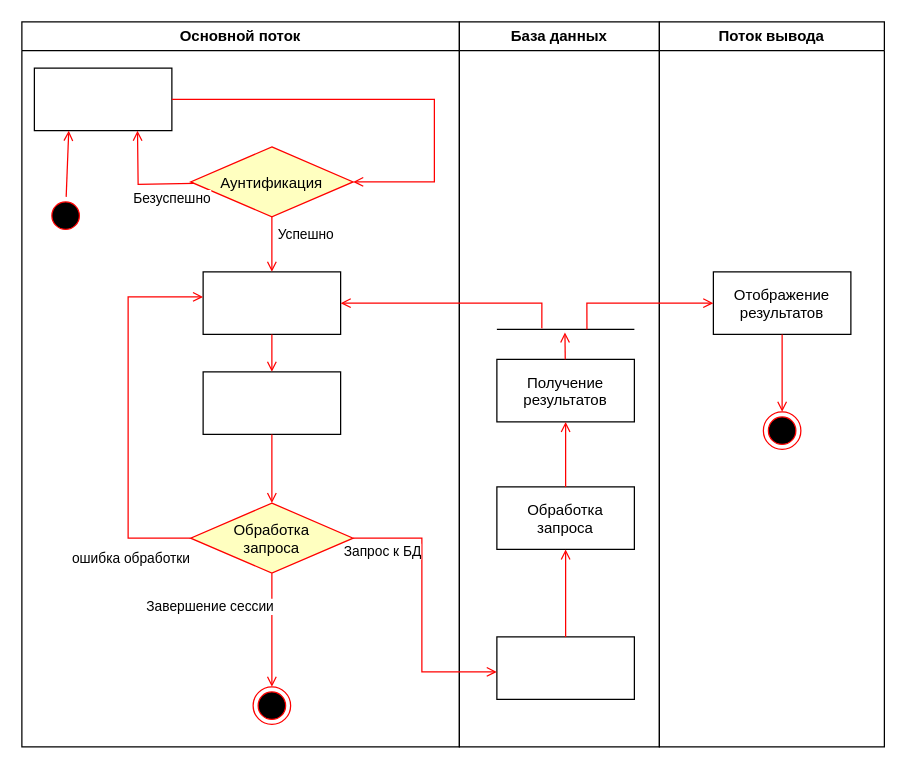
The diagram is 906 pixels wide and 769 high, and some of its shapes have lost their labels. The centre of each missing label's shape, as x and y in pixels:
"Запрос БД" belongs at point (565, 667).
"Идентификация" belongs at point (102, 99).
"Ожидание запроса" belongs at point (271, 302).
"Получение запроса пользователя" belongs at point (271, 402).
